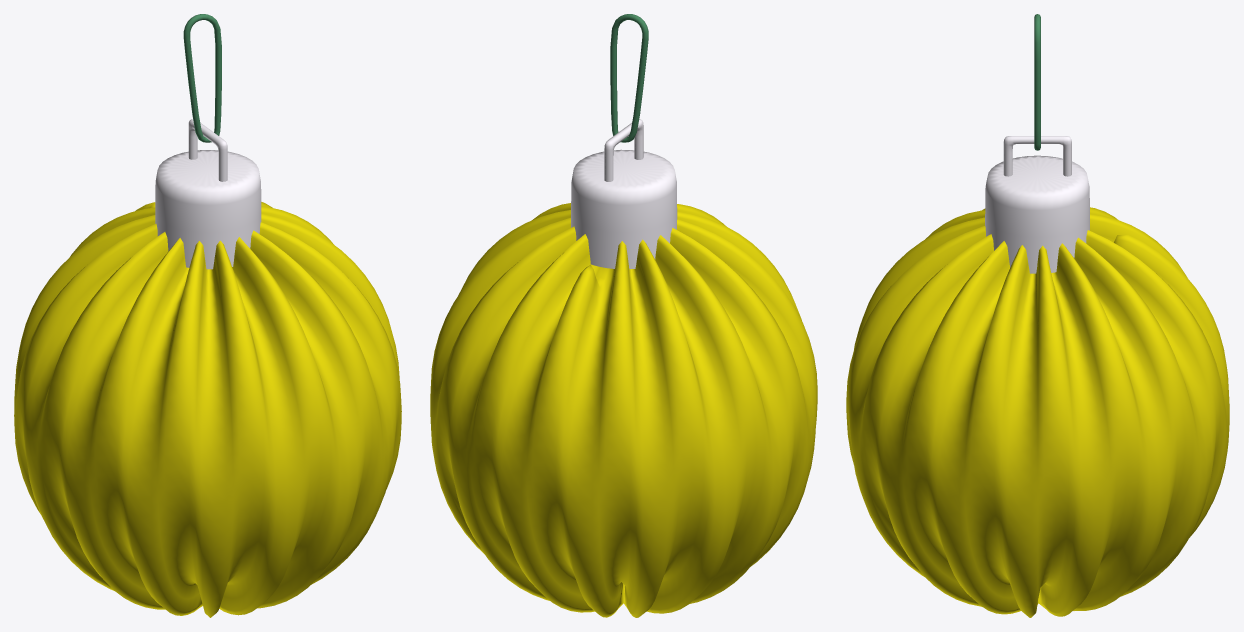
The model's file is ornaments2.fbx.
3 views of the same model, side by side, from view 1: azimuth 30°, elevation 25°; view 2: azimuth 150°, elevation 25°; view 3: azimuth 270°, elevation 25° (orthographic).
Parts seen in each view (by area): view 1: Sphere.002; view 2: Sphere.002; view 3: Sphere.002.
Boxes of the visible parts, left/top/right/bottom form: Sphere.002: left=14, top=14, right=401, bottom=617; Sphere.002: left=430, top=14, right=817, bottom=617; Sphere.002: left=846, top=14, right=1229, bottom=617.
Size of the model in its own units: 19.86 by 33.32 by 19.86.
